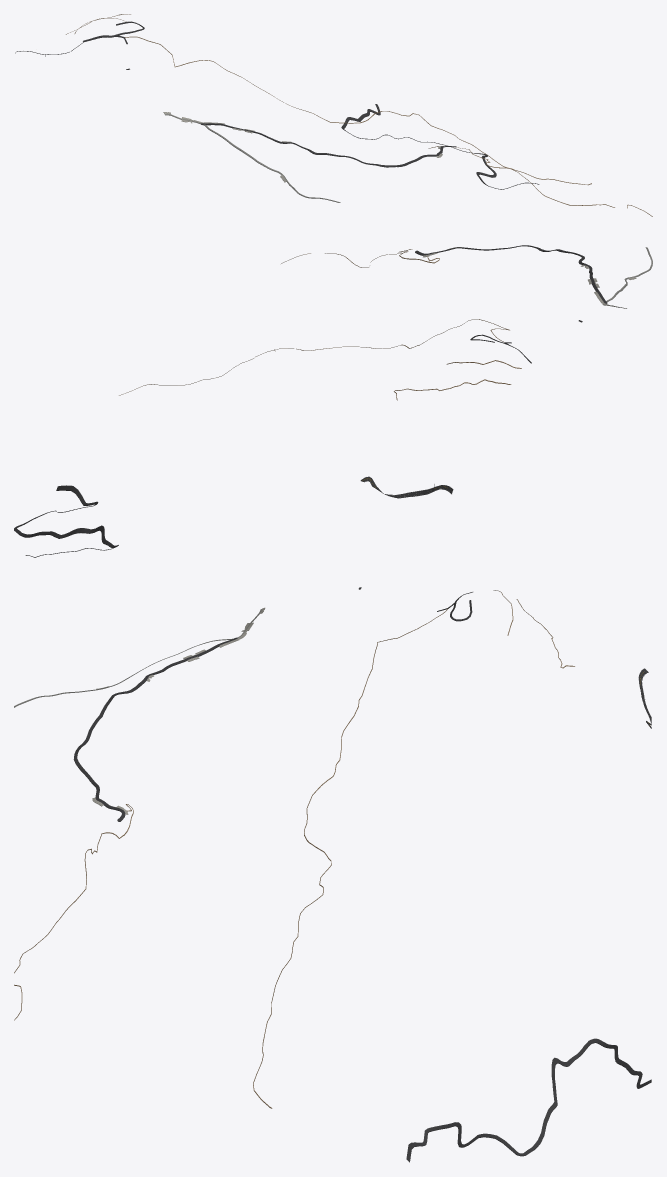
3 renders of one model, top to bottom at view 1: azimuth 30°, elevation 25°; view 2: azimuth 150°, elevation 25°; view 3: azimuth 270°, elevation 25°, orthographic. The views are drawn at different scales.
Size of the model in its own units: 1176 by 632 by 1169.
